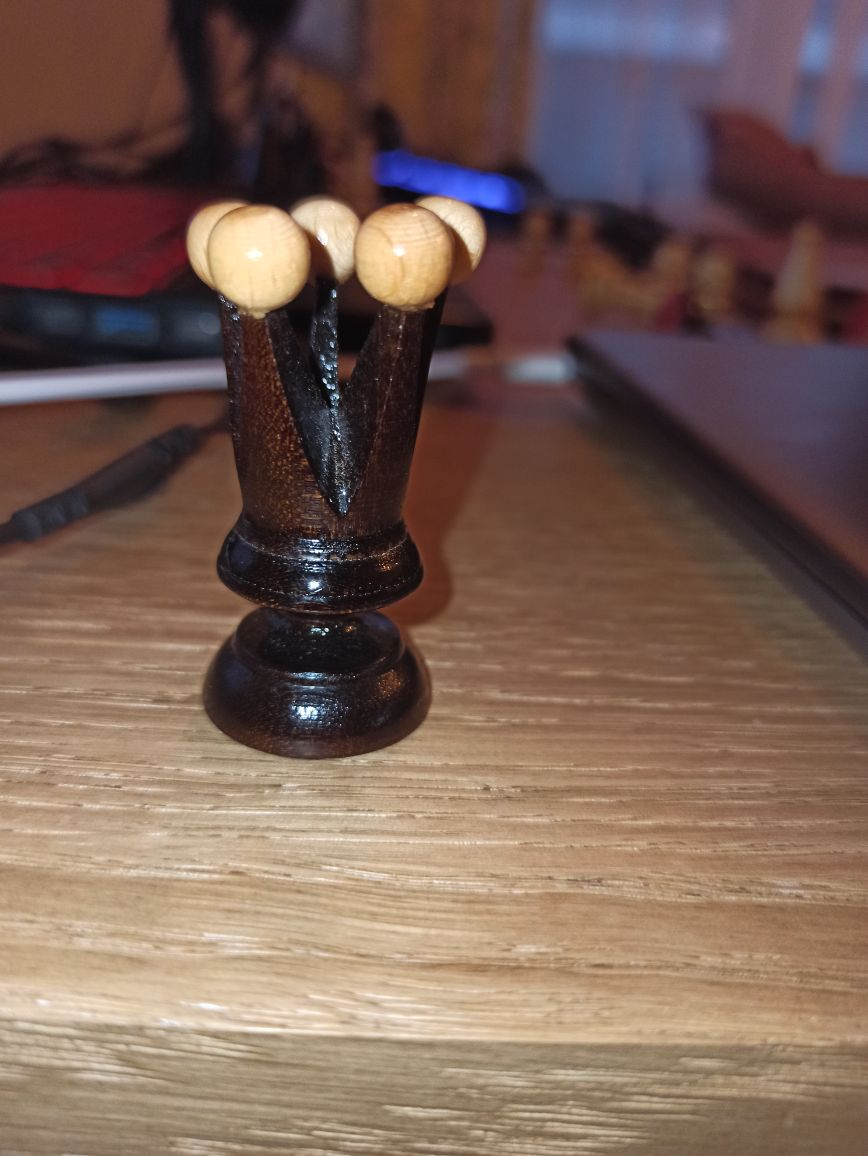bqueen: (183, 196, 489, 760)
